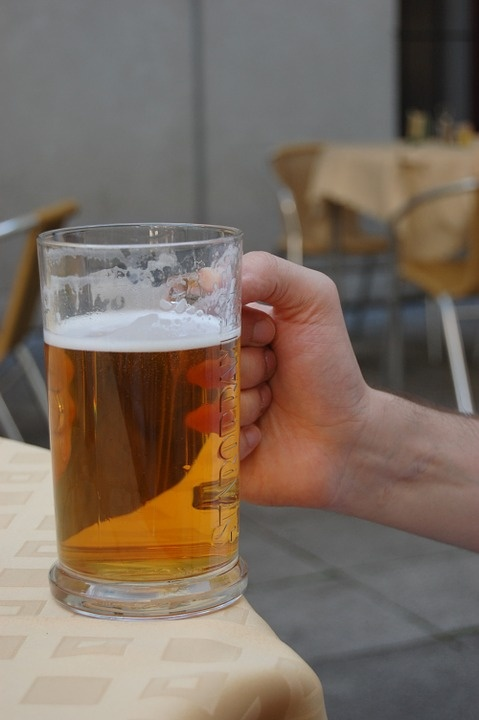glassBeer: (40, 223, 253, 602)
